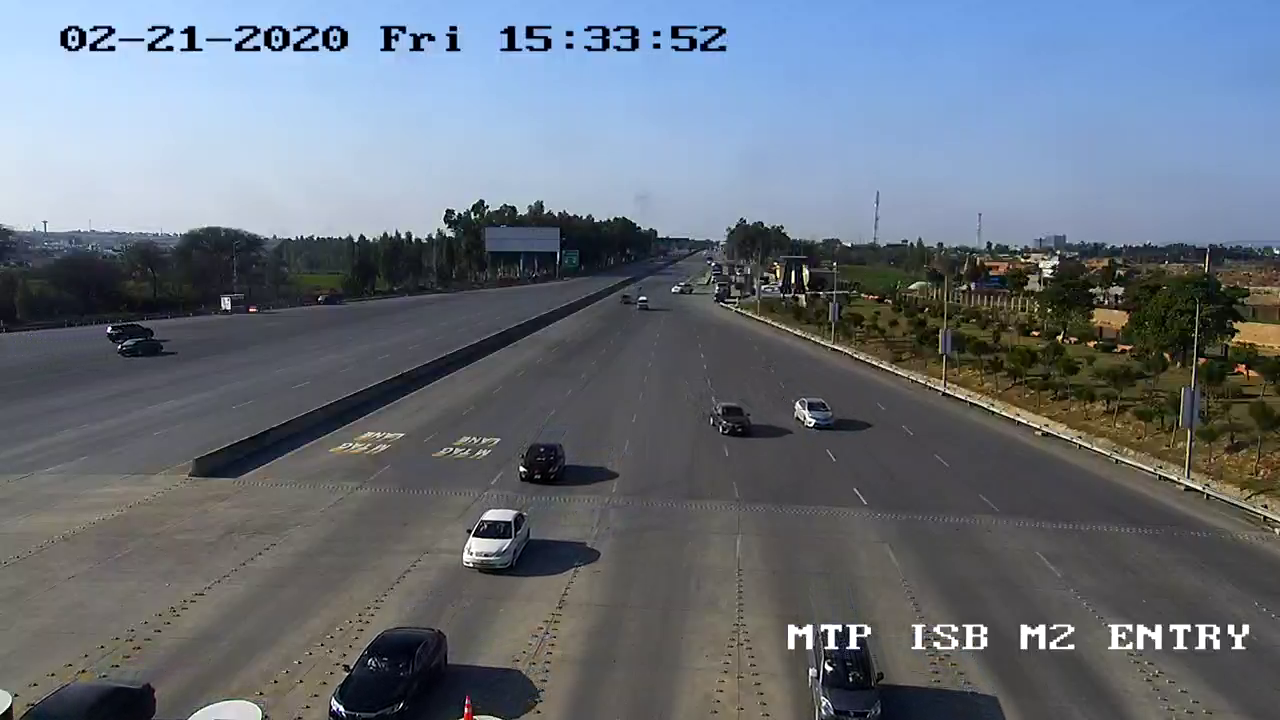f1: (320, 617, 466, 720), (443, 503, 540, 581), (509, 434, 579, 498), (699, 389, 759, 449), (780, 384, 842, 435)
